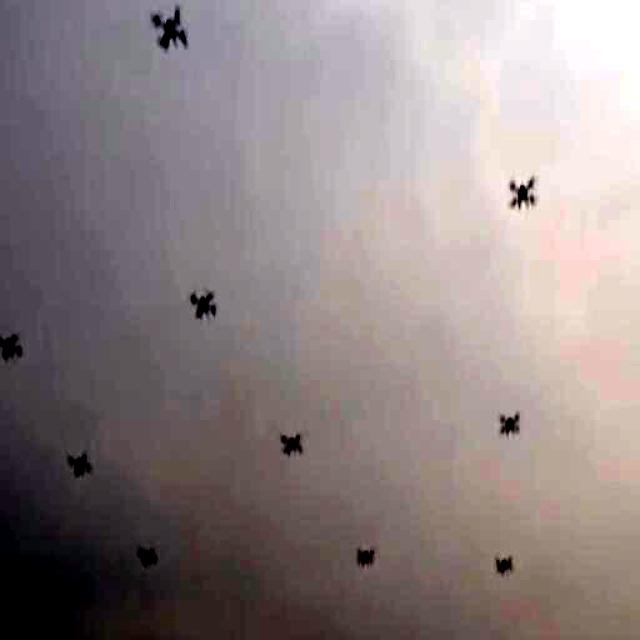bird: (139, 0, 225, 72), (498, 151, 561, 228), (42, 419, 96, 488), (336, 505, 385, 578), (271, 406, 316, 476), (171, 274, 225, 329), (0, 288, 29, 381), (490, 399, 536, 452), (119, 520, 155, 569), (0, 555, 29, 614), (490, 540, 520, 575), (515, 631, 548, 640)
